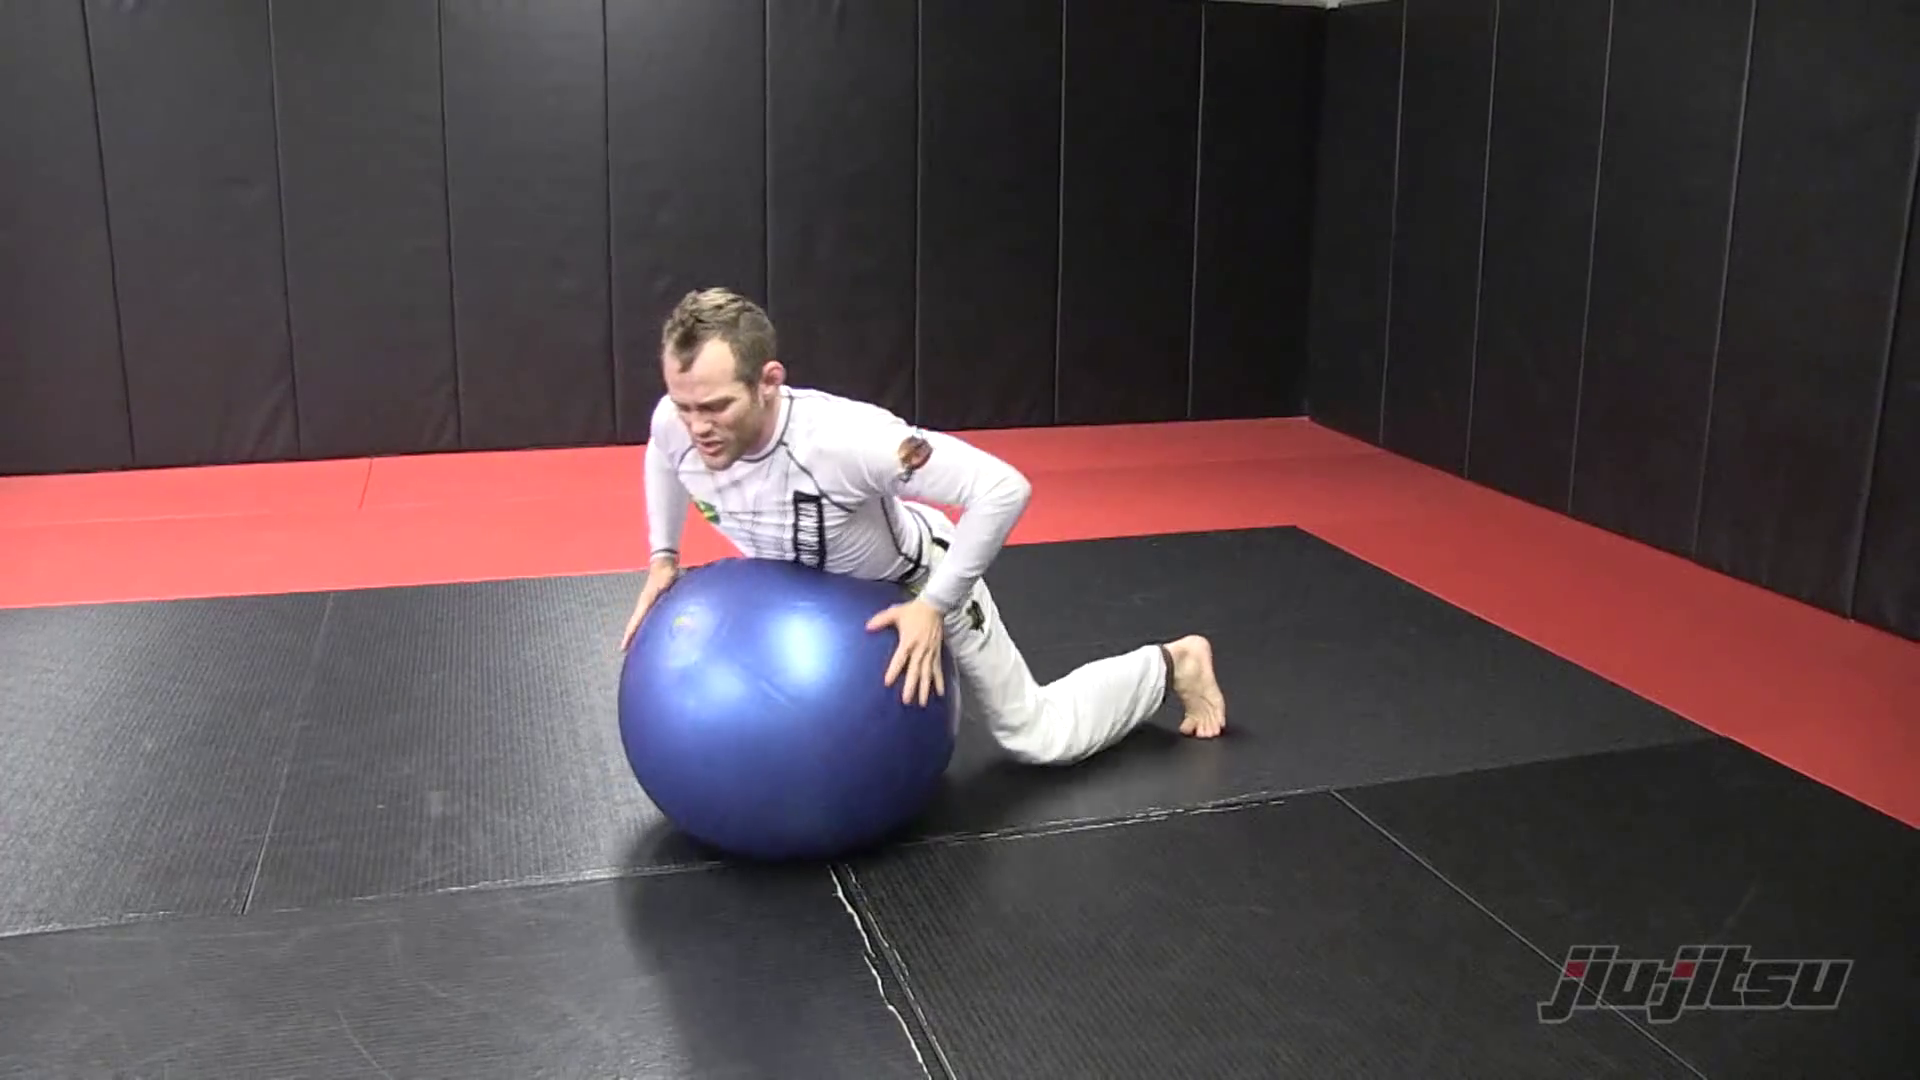yogaball: (595, 543, 976, 878)
